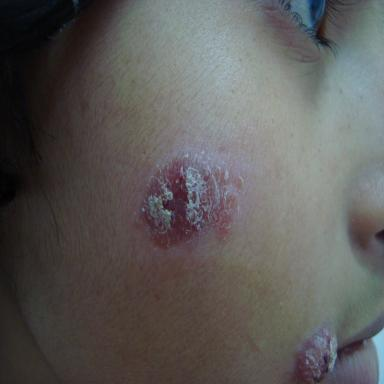Leishmanios: (140, 151, 245, 251)
